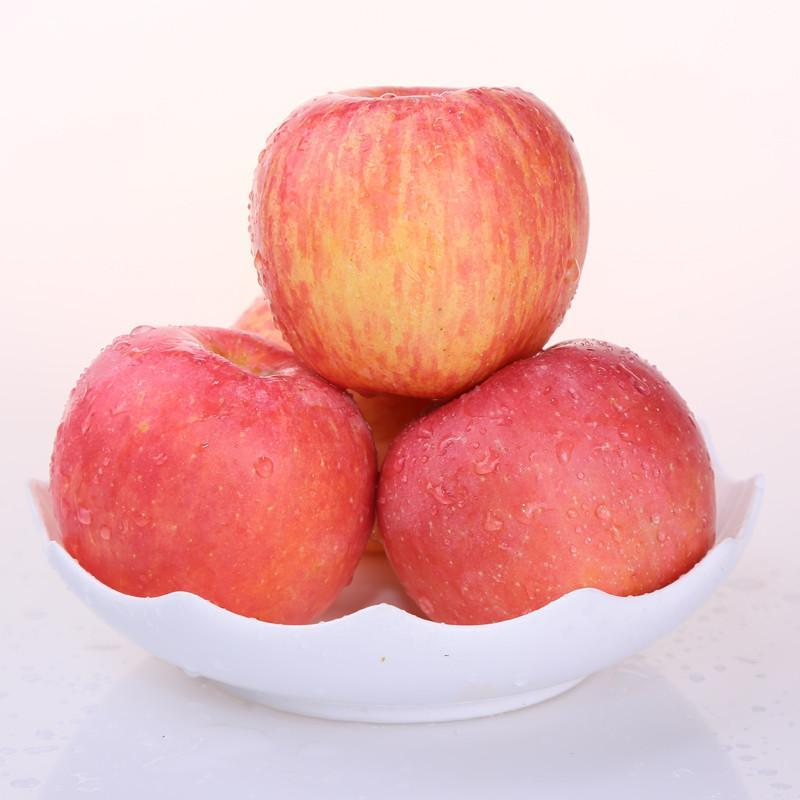apple: (249, 83, 592, 405), (50, 332, 381, 633), (380, 339, 715, 626)
